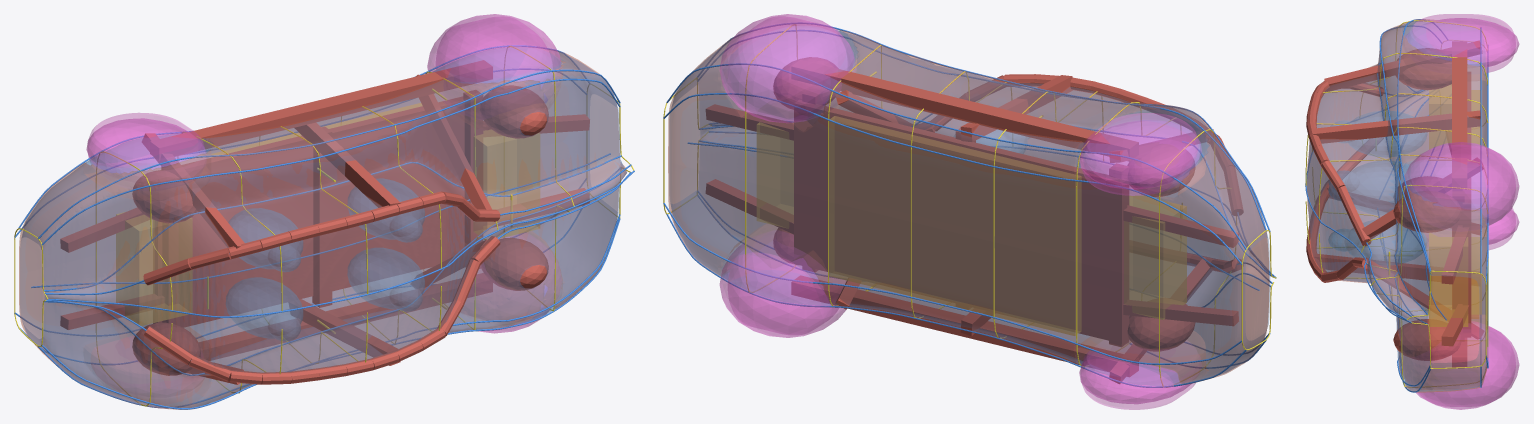
The model's file is modern_car_v2_crossover_engineering.glb.
3 renders of one model, left to right at view 1: azimuth 30°, elevation 25°; view 2: azimuth 150°, elevation 25°; view 3: azimuth 270°, elevation 25°, orthographic. The views are drawn at different scales.
Visible parts, largest first — view 1: semantic_surface, body_reference, floor_pan, wheel_envelope_front_right, rocker_right, rear_eaxle_envelope, actual_tyre_sweep_front_right, roof_rail_left, actual_tyre_sweep_rear_right, front_eaxle_envelope, rocker_left, roof_rail_right (+39 smaller); view 2: semantic_surface, body_reference, floor_pan, battery_envelope, wheel_envelope_front_right, actual_tyre_sweep_front_right, wheel_envelope_front_left, actual_tyre_sweep_rear_right, rocker_right, wheel_envelope_rear_right, rocker_left, actual_tyre_sweep_front_left (+29 smaller); view 3: semantic_surface, body_reference, wheel_envelope_front_right, actual_tyre_sweep_front_right, wheel_envelope_front_left, actual_tyre_sweep_rear_right, wheel_envelope_rear_right, front_eaxle_envelope, actual_tyre_sweep_front_left, b_pillar_right, rocker_right, front_tower_right (+38 smaller).
Boxes of the visible parts, x1,y1,x2,y2 form: semantic_surface: (20,47,626,407); body_reference: (19,50,626,409); floor_pan: (153,97,464,327); wheel_envelope_front_right: (427,14,560,105); rocker_right: (150,60,492,160); rear_eaxle_envelope: (116,212,192,325); actual_tyre_sweep_front_right: (436,16,552,97); roof_rail_left: (143,236,500,384); actual_tyre_sweep_rear_right: (88,113,204,172); front_eaxle_envelope: (473,130,539,238); rocker_left: (199,273,492,360); roof_rail_right: (143,191,500,285); semantic_surface: (669,27,1269,385); body_reference: (668,30,1269,383); floor_pan: (794,100,1127,343); battery_envelope: (829,116,1081,335); wheel_envelope_front_right: (719,14,855,123); actual_tyre_sweep_front_right: (728,16,846,120); wheel_envelope_front_left: (719,230,846,337); actual_tyre_sweep_rear_right: (1081,113,1199,195); rocker_right: (791,60,1138,161); wheel_envelope_rear_right: (1079,120,1201,189); rocker_left: (791,275,1138,376); actual_tyre_sweep_front_left: (728,248,838,334); semantic_surface: (1307,21,1487,391); body_reference: (1307,19,1487,392); wheel_envelope_front_right: (1402,142,1519,227); actual_tyre_sweep_front_right: (1407,145,1515,225); wheel_envelope_front_left: (1416,321,1519,409); actual_tyre_sweep_rear_right: (1408,14,1515,73); wheel_envelope_rear_right: (1405,18,1519,67); front_eaxle_envelope: (1429,233,1468,326); actual_tyre_sweep_front_left: (1418,326,1515,406); b_pillar_right: (1313,110,1480,143); rocker_right: (1452,41,1467,188); front_tower_right: (1393,191,1461,232).
Bounding box in the file's own units: 4.53 × 2.29 × 1.74.
